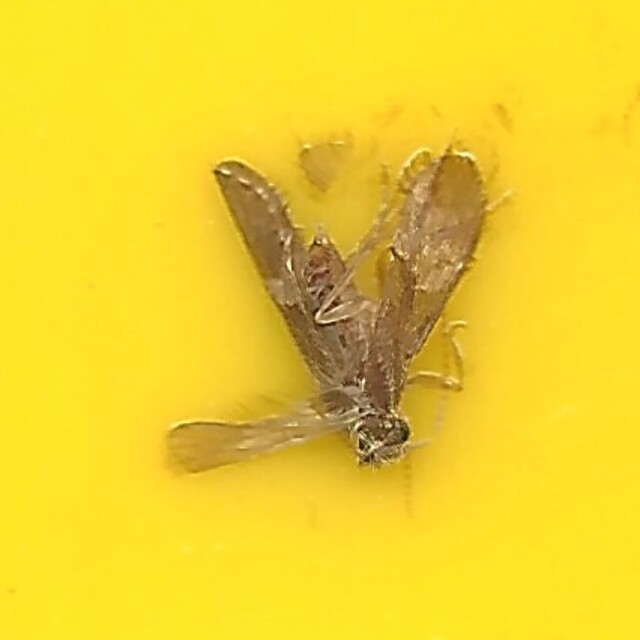Trichoptera: (150, 150, 490, 490)
